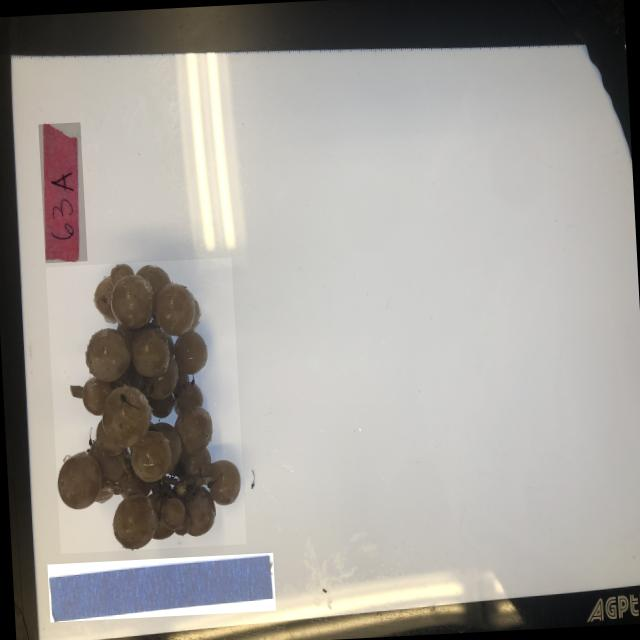grape_cluster: (45, 256, 246, 552)
index: (39, 121, 88, 262)
measure_label: (48, 551, 276, 621)
